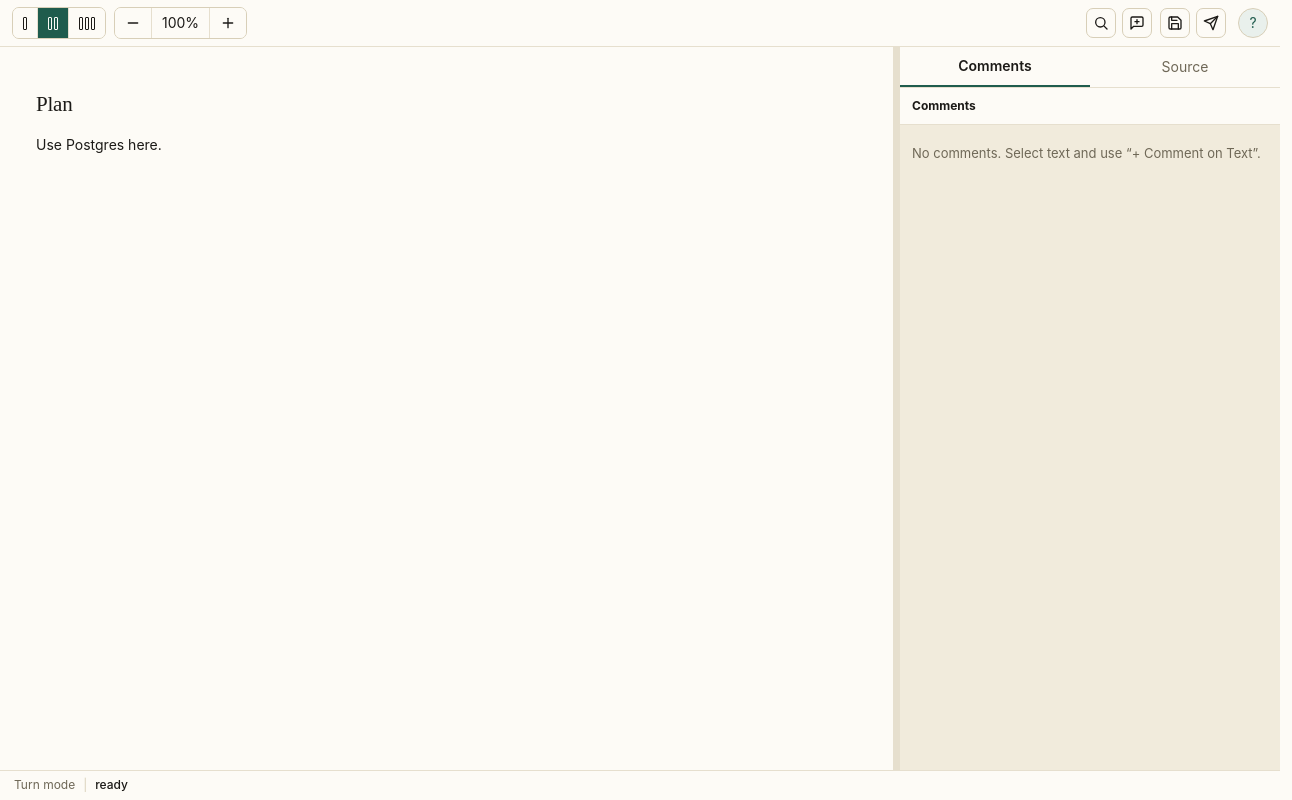
Test case: App-level addComment overlap/anchor gate (protects addSpanComment) › blocks a NON-ANCHORABLE selection: sets cant-anchor status and creates no comment
This screenshot has width=1292, height=800.
Click the button named "comment on text": [1137, 23] box 1122,8 -> 1152,38
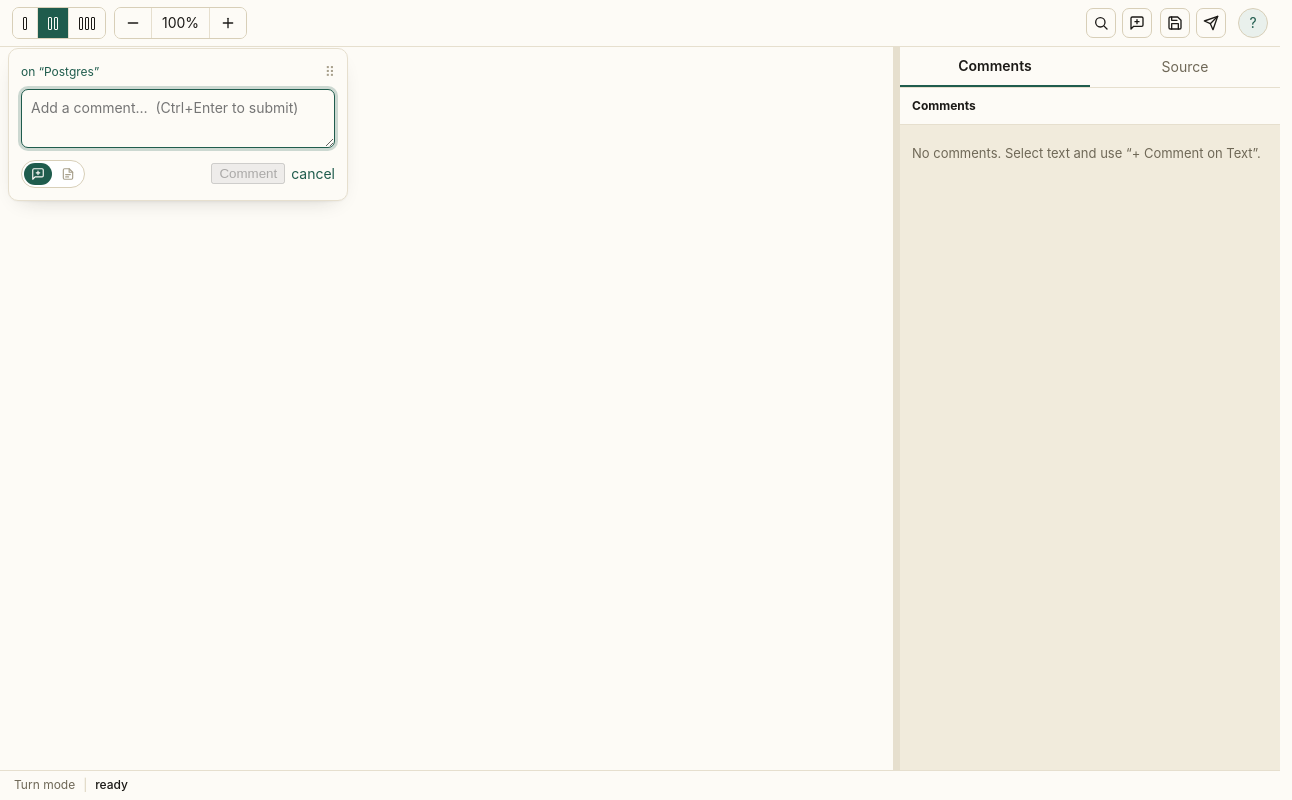
In the dropdown with placeholder "Add a comment… (Ctrl+Enter to submit)": [178, 118] box 21,89 -> 335,148, type "Anchor it to Postgres."
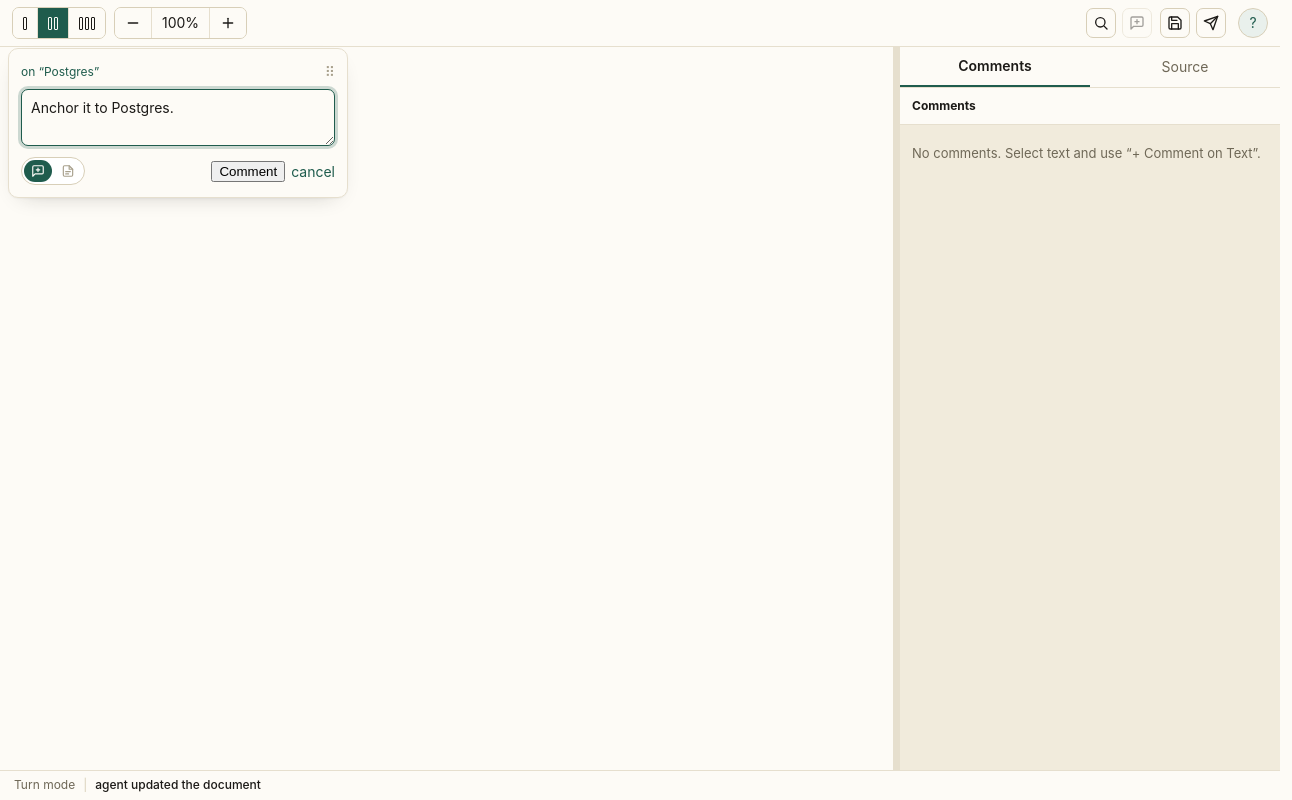
Expected: the text "MySQL" is shown, 36,136 -> 152,153
Click the button "Comment": [248, 171] box 211,161 -> 285,182
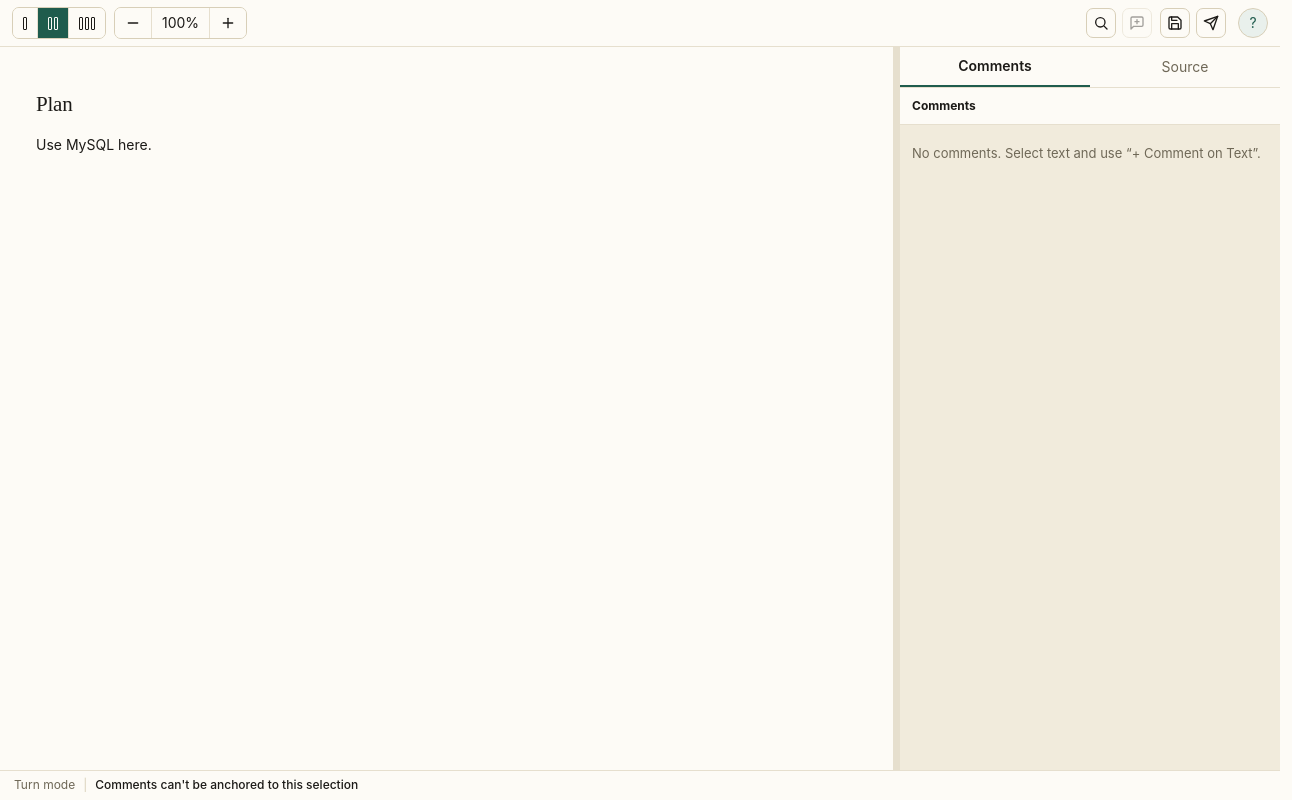
Expected: the text "Anchor it to Postgres." is not shown
Expected: the text with class "ap-status-msg" reads "Comments can't be anchored to this selection", 95,777 -> 358,792
